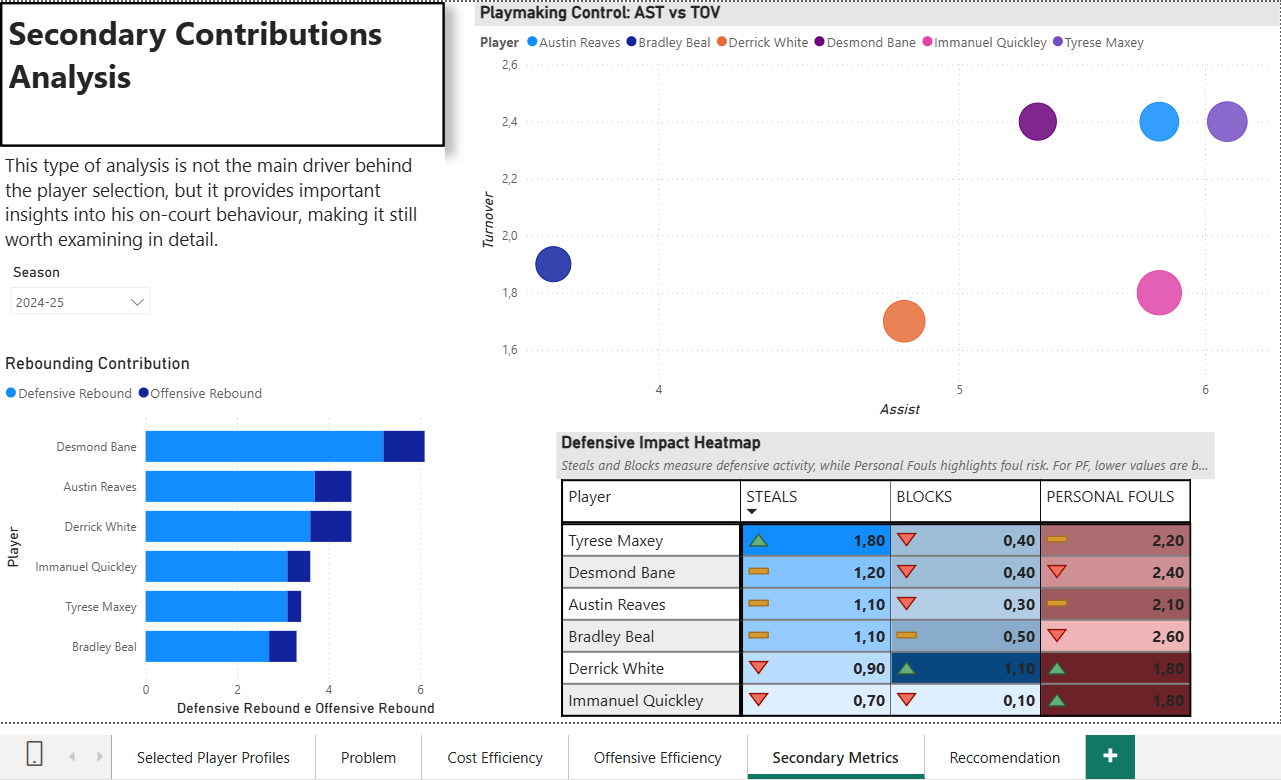

Layout of this report page (visuals, bound fields, positions):
{"tool":"powerbi","page":{"name":"Secondary Metrics","canvas":[1280,720],"ordinal":4},"visuals":[{"type":"scatterChart","title":"Playmaking Control: AST vs TOV","fields":{"X":["Sum(NBA_stats.AST)"],"Y":["Sum(NBA_stats.TOV)"],"Series":["NBA_salaries.Player"],"Size":["NBA_salaries.Affidabilità"]},"box":[475,0,805,420],"z":0},{"type":"slicer","fields":{"Values":["Seasons.Season"]},"box":[0,256.7,160,68.3],"z":1000},{"type":"pivotTable","title":"Defensive Impact Heatmap","fields":{"Rows":["NBA_salaries.Player"],"Values":["Sum(NBA_stats.STL)","Sum(NBA_stats.BLK)","Sum(NBA_stats.PF)"]},"box":[556.7,430,658.3,290],"z":2000},{"type":"barChart","title":"Rebounding Contribution","fields":{"Y":["Sum(NBA_stats.DRB)","Sum(NBA_stats.ORB)"],"Category":["NBA_salaries.Player"]},"box":[0,351.7,475,368.3],"z":3000},{"type":"textbox","box":[0,0,445,145],"z":4000},{"type":"textbox","box":[0,145,445,111.7],"z":5000}]}

Visuals, with their boxes on the page's 1280x720 design canvas (x1, y1, x2, y2). These are canvas units, not pixel positions in the 1281x780 screenshot, which may show the page scaled, cropped or inside an application window:
"Playmaking Control: AST vs TOV" scatterChart: 475, 0, 1280, 420
slicer - Seasons.Season: 0, 257, 160, 325
"Defensive Impact Heatmap" pivotTable: 557, 430, 1215, 720
"Rebounding Contribution" barChart: 0, 352, 475, 720
textbox: 0, 0, 445, 145
textbox: 0, 145, 445, 257
